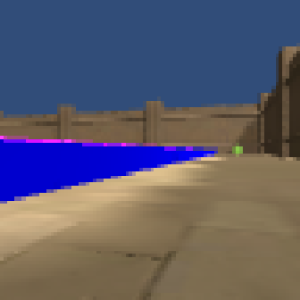goodGoal: (230, 143, 246, 156)
platform: (1, 145, 217, 202)
ramp: (1, 134, 79, 143)
